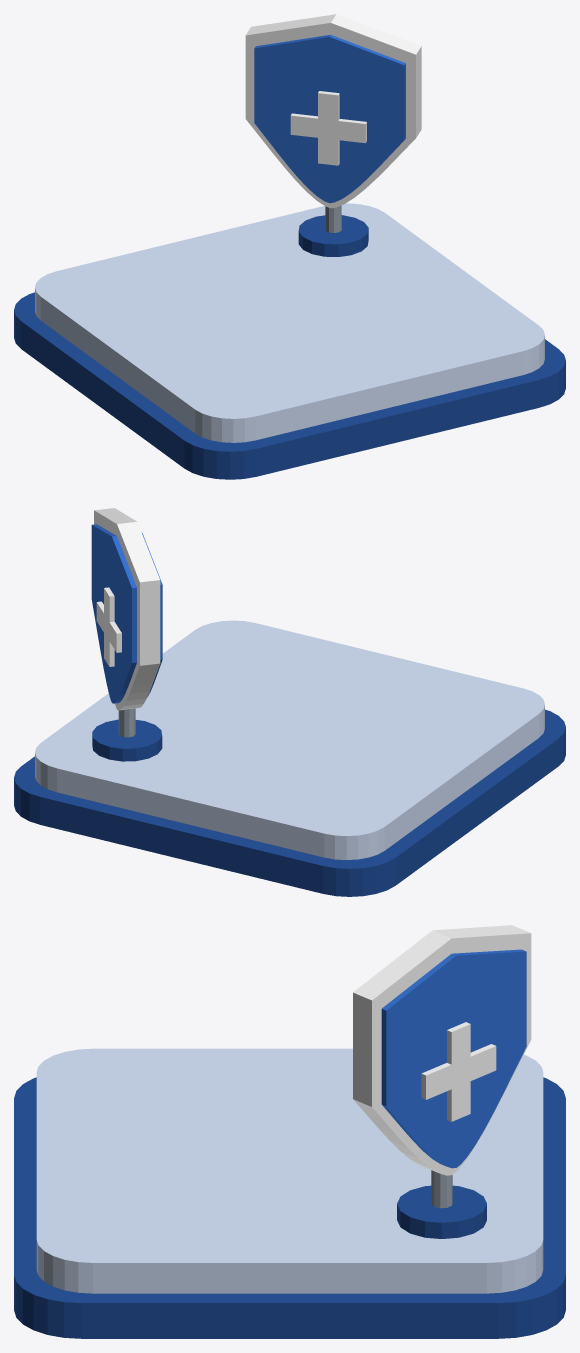
File: tile_shop.glb
3 renders of one model, top to bottom at view 1: azimuth 30°, elevation 25°; view 2: azimuth 150°, elevation 25°; view 3: azimuth 270°, elevation 25°, orthographic. The views are drawn at different scales.
Visible parts, largest first — view 1: base, plinth, prop_shield, prop_shield_rim, prop_foot, prop_cross_h_f, prop_cross_v_f; view 2: base, plinth, prop_shield, prop_shield_rim, prop_foot, prop_cross_h_b, prop_cross_v_b, prop_stand; view 3: base, plinth, prop_shield, prop_shield_rim, prop_foot, prop_cross_v_b, prop_cross_h_b, prop_stand.
Part boxes in pixels (bbox=[...]): base: bbox=[35, 203, 544, 442]; plinth: bbox=[14, 292, 565, 479]; prop_shield: bbox=[254, 34, 405, 203]; prop_shield_rim: bbox=[245, 14, 421, 208]; prop_foot: bbox=[298, 215, 368, 256]; prop_cross_h_f: bbox=[290, 113, 366, 143]; prop_cross_v_f: bbox=[318, 91, 339, 165]; base: bbox=[35, 620, 544, 859]; plinth: bbox=[14, 709, 565, 896]; prop_shield: bbox=[91, 524, 162, 703]; prop_shield_rim: bbox=[94, 508, 160, 710]; prop_foot: bbox=[92, 719, 162, 761]; prop_cross_h_b: bbox=[96, 601, 121, 652]; prop_cross_v_b: bbox=[104, 587, 114, 666]; prop_stand: bbox=[118, 708, 135, 737]; base: bbox=[36, 1048, 543, 1293]; plinth: bbox=[14, 1077, 565, 1338]; prop_shield: bbox=[381, 949, 526, 1168]; prop_shield_rim: bbox=[353, 925, 531, 1175]; prop_foot: bbox=[397, 1185, 486, 1238]; prop_cross_v_b: bbox=[447, 1022, 470, 1121]; prop_cross_h_b: bbox=[421, 1044, 496, 1099]; prop_stand: bbox=[431, 1170, 452, 1208].
Bounding box in the file's own units: 0.98 × 0.6897 × 0.98.
